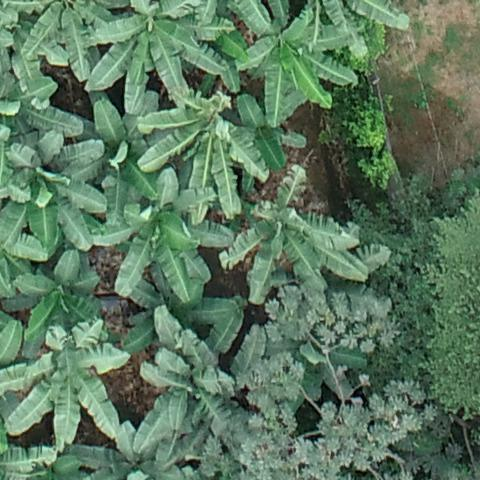Banana-plant: (221, 163, 366, 287), (96, 167, 224, 292), (141, 94, 268, 216), (8, 325, 129, 447), (138, 308, 236, 449), (93, 0, 225, 104), (240, 3, 352, 125), (0, 132, 107, 251), (78, 95, 161, 224), (64, 397, 184, 480), (14, 0, 124, 79), (12, 250, 103, 331)
